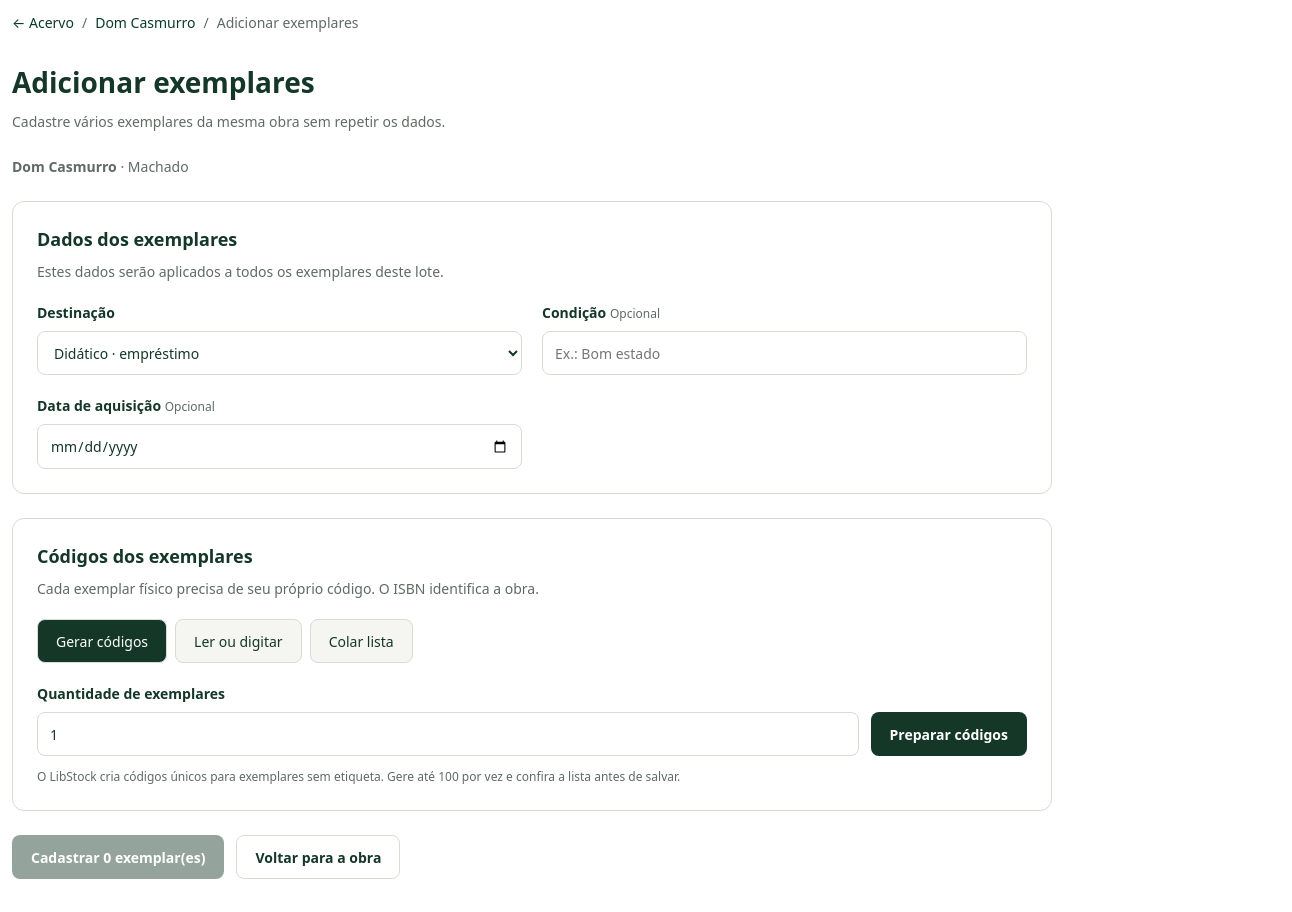
Cadastro de exemplares em lote › recusa geração com quantidade inválida
The image size is (1292, 912).
Replace the text in the number field with id "batch-quantity" with "0". click: x=448, y=734
box: left=37, top=712, right=858, bottom=756
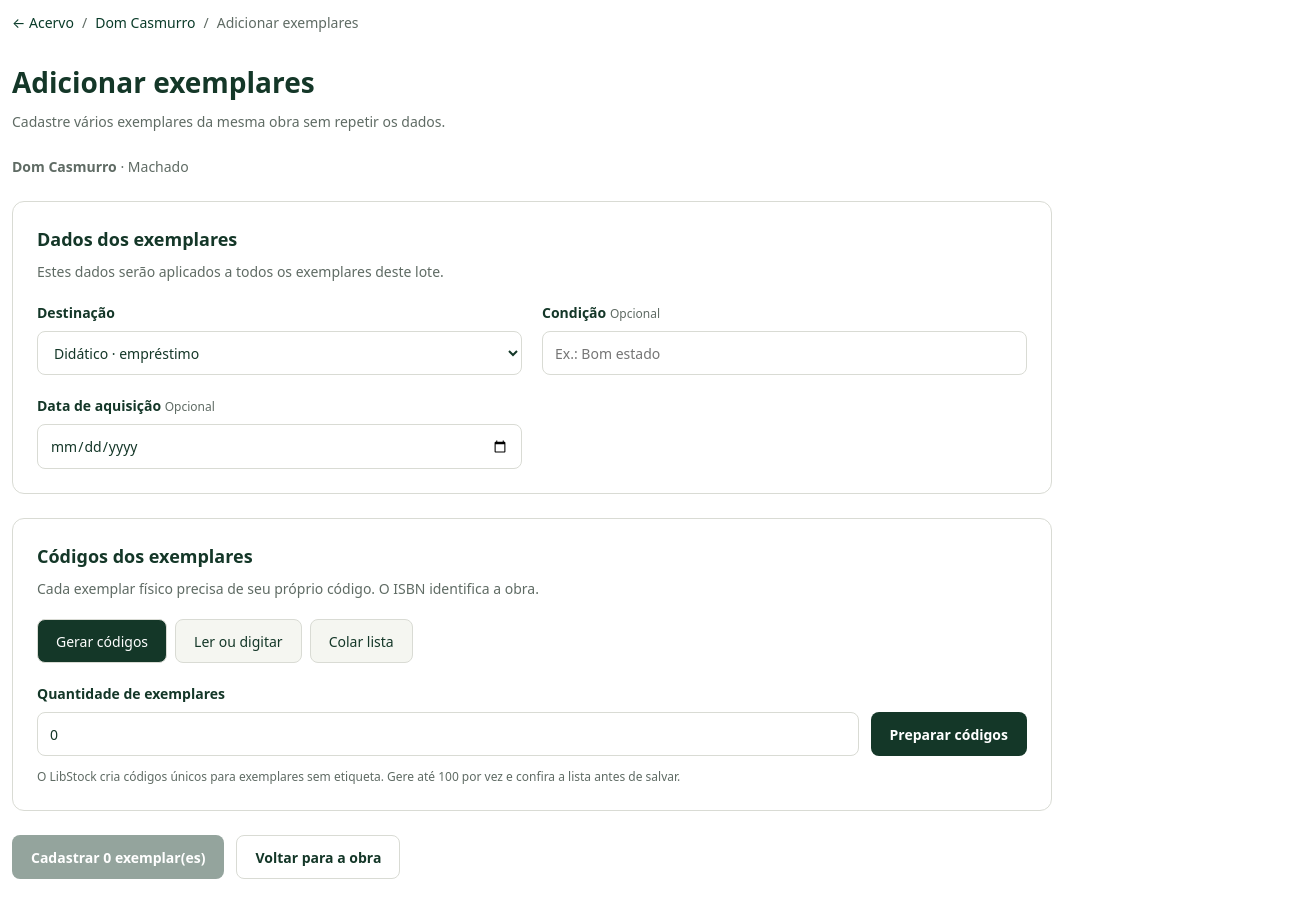
Click the button "Preparar códigos". click: x=949, y=734
box: left=870, top=712, right=1027, bottom=756
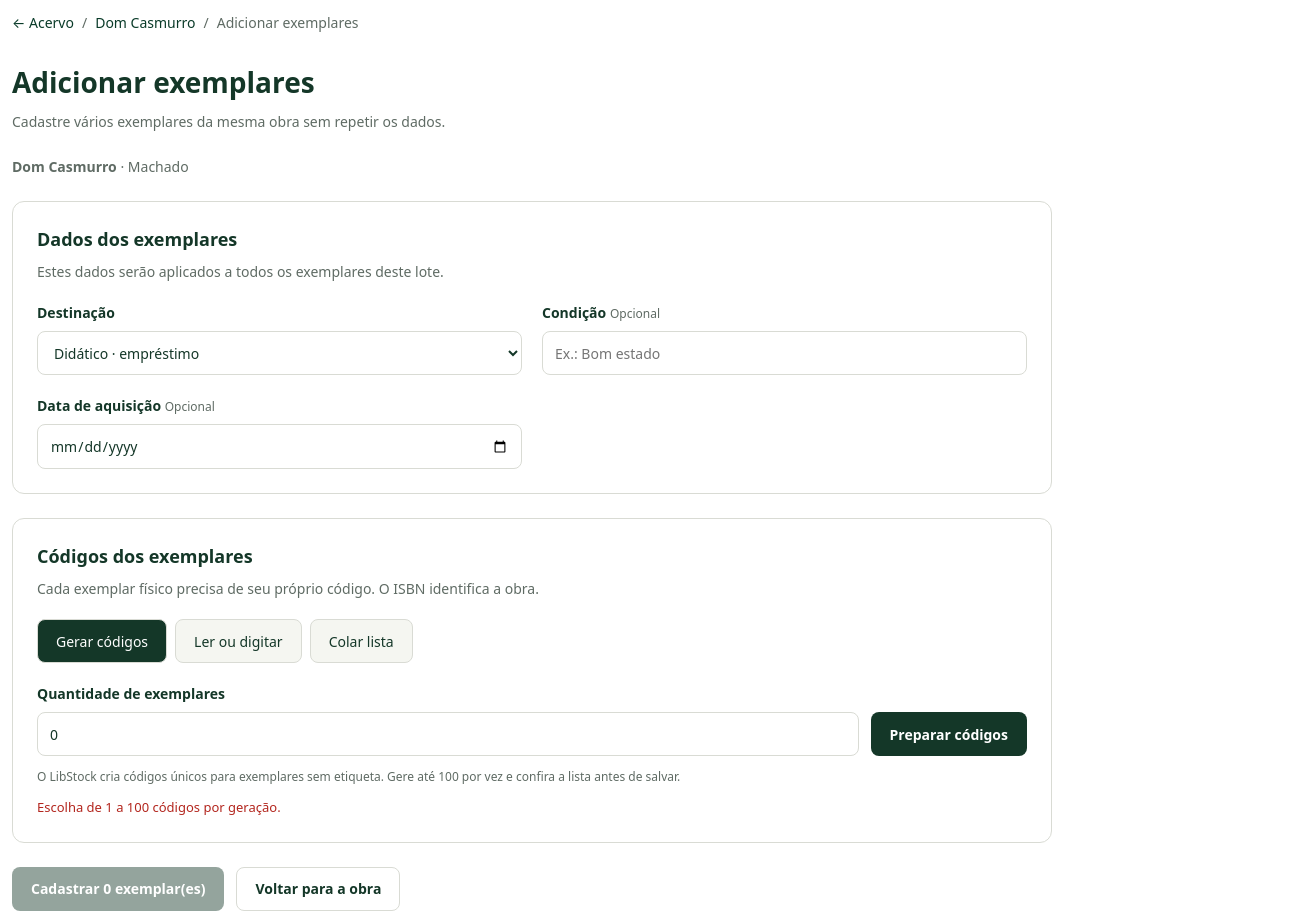
Expected: the text "Escolha de 1 a 100" is shown, left=37, top=798, right=281, bottom=816
